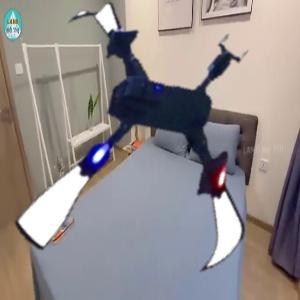drone: (1, 4, 298, 300)
